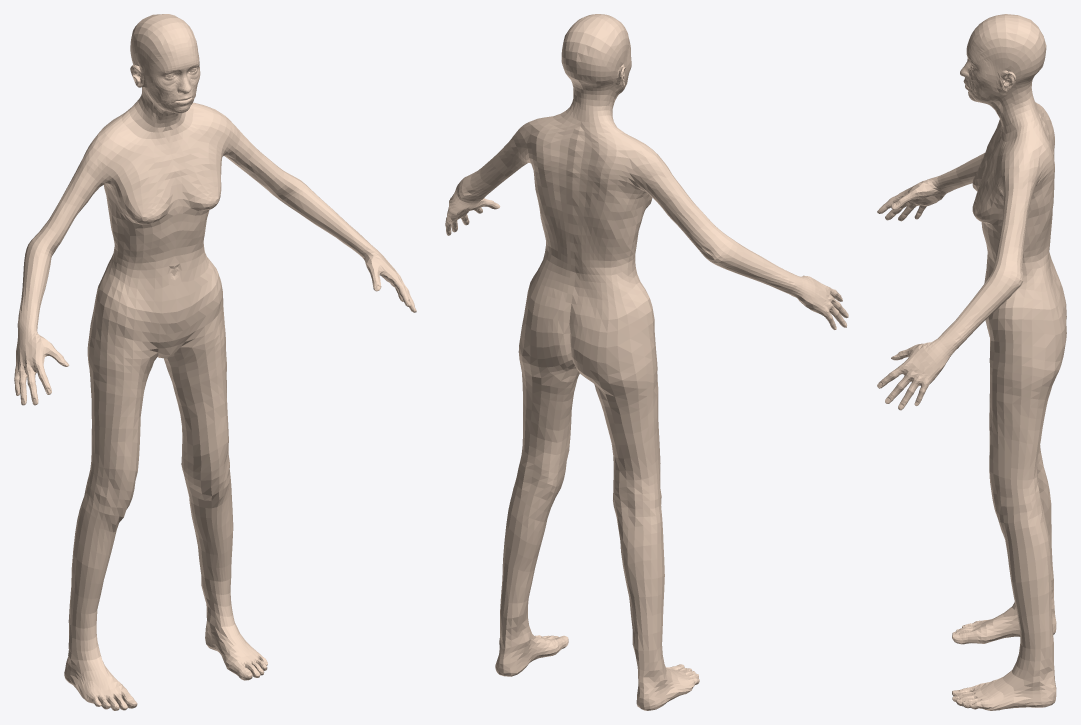
File: female-older-lean-toned.glb
3 views of the same model, side by side, from view 1: azimuth 30°, elevation 25°; view 2: azimuth 150°, elevation 25°; view 3: azimuth 270°, elevation 25° (orthographic).
Parts seen in each view (by area): view 1: world; view 2: world; view 3: world.
Boxes of the visible parts, left/top/right/bottom form: world: left=14, top=14, right=416, bottom=710; world: left=445, top=14, right=848, bottom=710; world: left=877, top=14, right=1066, bottom=710.
Size of the model in its own units: 1.13 by 1.8 by 0.4742.
